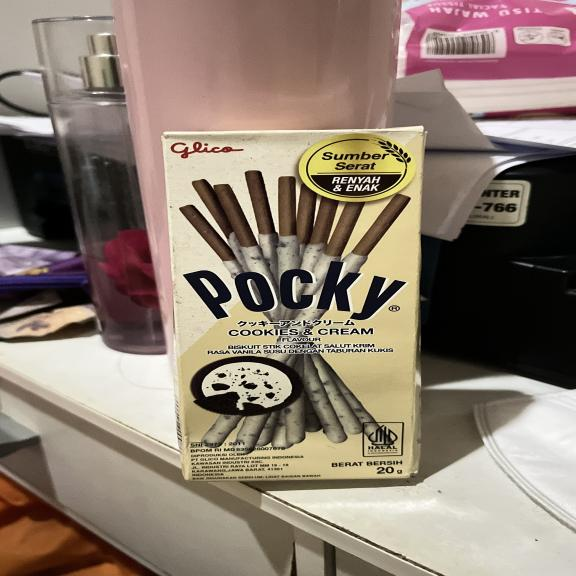Kertas: (163, 130, 432, 483)
